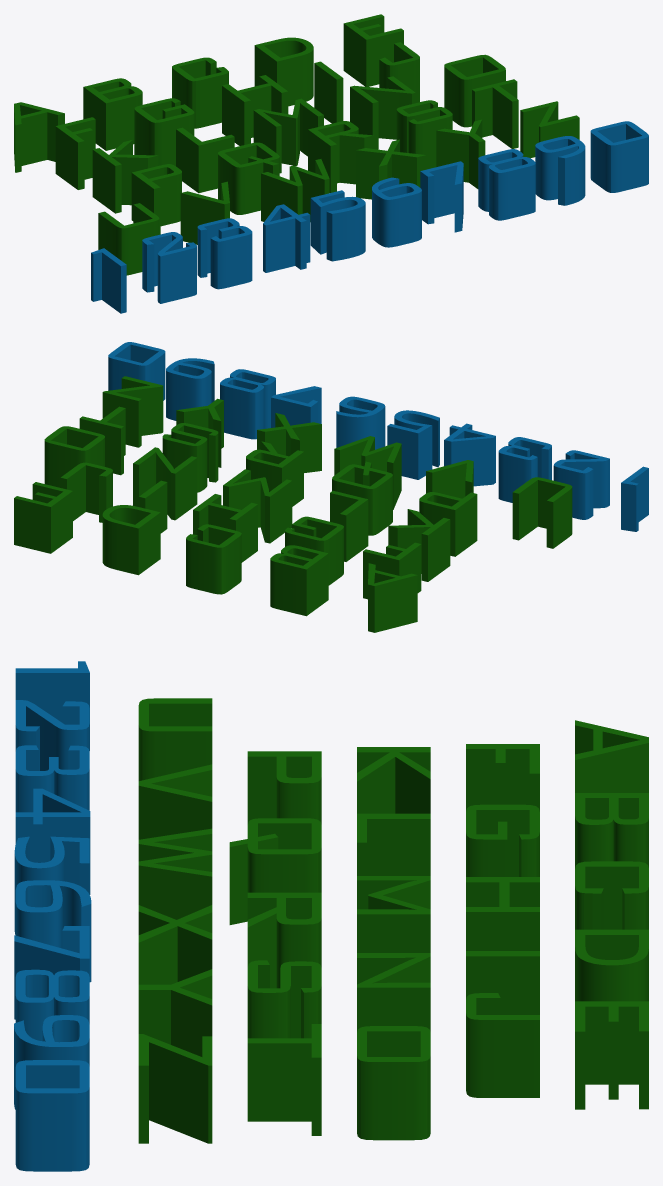
The model's file is ALPHABET.glb.
The picture shows the model from 3 angles, top to bottom: view 1: azimuth 30°, elevation 25°; view 2: azimuth 150°, elevation 25°; view 3: azimuth 270°, elevation 25°; orthographic projection. The views are drawn at different scales.
Parts seen in each view (by area): view 1: Mesh72 Group31 Model, Mesh65 Group29 Model, Mesh80 Group34 Model, Mesh61 Group27 Model, Mesh75 Group32 Model, Mesh69 Group30 Model, Mesh13 Group6 Model, Mesh58 Group26 Model, Mesh84 Model, Mesh1 Group1 Model, Mesh6 Group3 Model, Mesh26 Group11 Model (+24 smaller); view 2: Mesh1 Group1 Model, Mesh13 Group6 Model, Mesh6 Group3 Model, Mesh22 Group9 Model, Mesh49 Group22 Model, Mesh65 Group29 Model, Mesh11 Group5 Model, Mesh54 Group24 Model, Mesh40 Group18 Model, Mesh17 Group7 Model, Mesh75 Group32 Model, Mesh61 Group27 Model (+24 smaller); view 3: Mesh51 Group23 Model, Mesh72 Group31 Model, Mesh84 Model, Mesh6 Group3 Model, Mesh20 Group8 Model, Mesh40 Group18 Model, Mesh34 Group15 Model, Mesh28 Group12 Model, Mesh11 Group5 Model, Mesh49 Group22 Model, Mesh8 Group4 Model, Mesh24 Group10 Model (+24 smaller).
Boxes of the visible parts, x1,y1,x2,y2 form: Mesh72 Group31 Model: (590, 121, 648, 192); Mesh65 Group29 Model: (478, 149, 535, 220); Mesh80 Group34 Model: (197, 218, 252, 289); Mesh61 Group27 Model: (310, 190, 365, 261); Mesh75 Group32 Model: (142, 232, 196, 303); Mesh69 Group30 Model: (535, 136, 585, 205); Mesh13 Group6 Model: (83, 78, 142, 150); Mesh58 Group26 Model: (372, 177, 421, 247); Mesh84 Model: (218, 142, 279, 214); Mesh1 Group1 Model: (254, 37, 313, 106); Mesh6 Group3 Model: (343, 14, 403, 86); Mesh26 Group11 Model: (134, 98, 194, 165); Mesh1 Group1 Model: (102, 505, 160, 575); Mesh13 Group6 Model: (270, 545, 328, 616); Mesh6 Group3 Model: (14, 482, 72, 553); Mesh22 Group9 Model: (186, 524, 241, 594); Mesh49 Group22 Model: (512, 477, 572, 548); Mesh65 Group29 Model: (220, 369, 275, 439); Mesh11 Group5 Model: (223, 469, 292, 543); Mesh54 Group24 Model: (133, 447, 197, 520); Mesh40 Group18 Model: (102, 376, 163, 447); Mesh17 Group7 Model: (368, 563, 417, 632); Mesh75 Group32 Model: (553, 450, 609, 519); Mesh61 Group27 Model: (387, 410, 439, 479); Mesh51 Group23 Model: (357, 1026, 430, 1140); Mesh72 Group31 Model: (15, 1060, 89, 1171); Mesh84 Model: (229, 818, 321, 924); Mesh6 Group3 Model: (575, 1001, 648, 1109); Mesh20 Group8 Model: (466, 993, 539, 1097); Mesh40 Group18 Model: (138, 1034, 212, 1143); Mesh34 Group15 Model: (247, 1024, 321, 1135); Mesh28 Group12 Model: (138, 828, 212, 919); Mesh11 Group5 Model: (357, 876, 430, 952); Mesh49 Group22 Model: (138, 698, 212, 780); Mesh8 Group4 Model: (247, 892, 321, 988); Mesh24 Group10 Model: (466, 877, 539, 950).
Size of the model in its own units: 0.0047 by 0.000396 by 0.00292.
